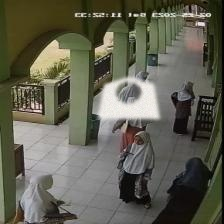Mukena: (97, 76, 160, 119)
